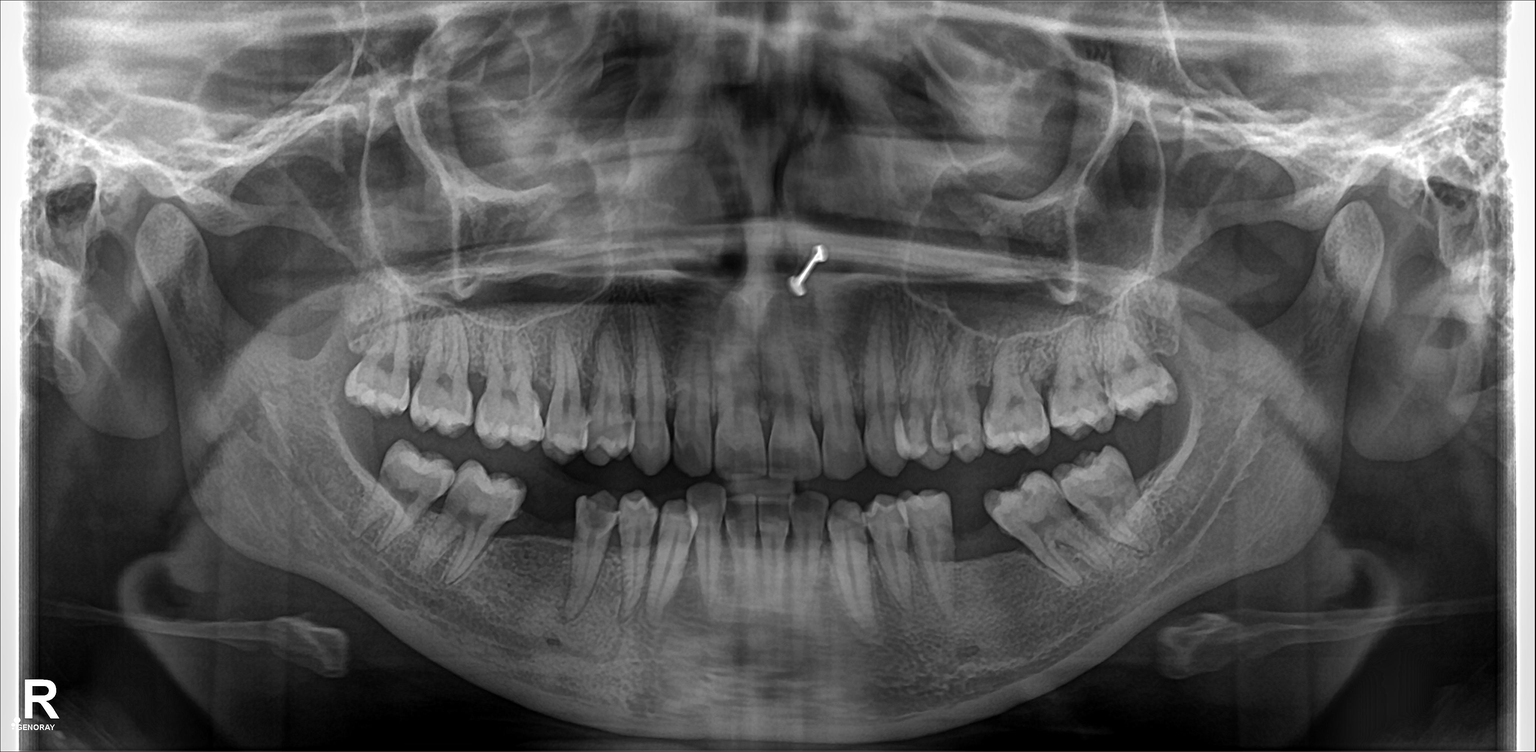Missing Tooth: (946, 503, 1009, 612), (521, 493, 575, 612), (328, 423, 380, 514), (1130, 426, 1193, 487)
